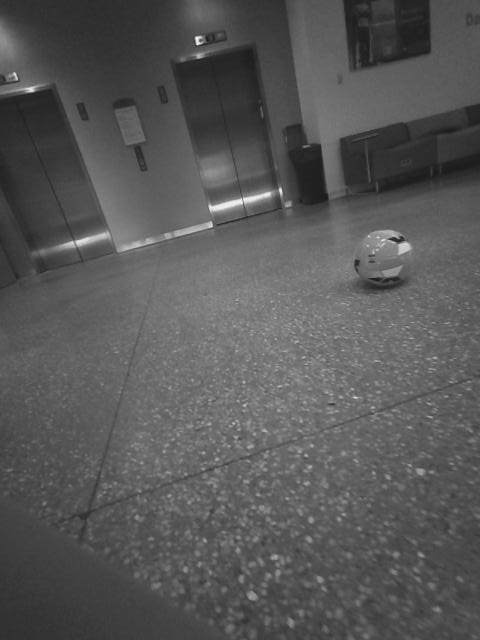ball: (347, 219, 421, 293)
